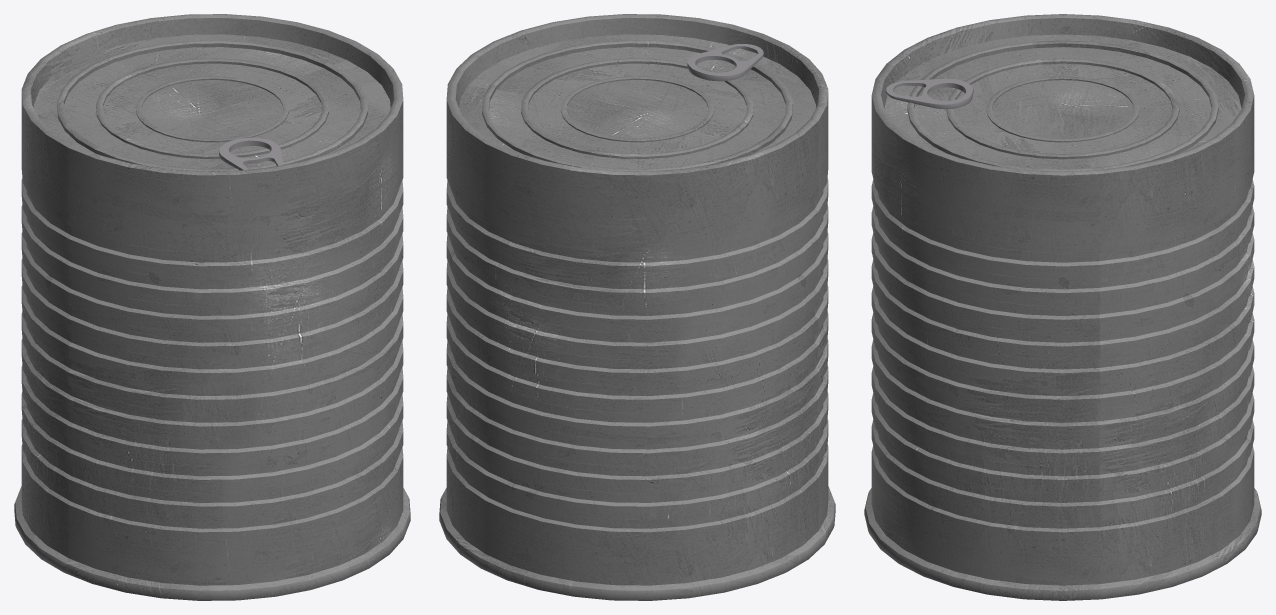
File: canned1.fbx
3 renders of one model, left to right at view 1: azimuth 30°, elevation 25°; view 2: azimuth 150°, elevation 25°; view 3: azimuth 270°, elevation 25°, orthographic.
Parts seen in each view (by area): view 1: canned_1; view 2: canned_1; view 3: canned_1.
Part boxes in pixels (x1,y1,x2,y2): canned_1: [14, 14, 410, 600]; canned_1: [439, 14, 835, 600]; canned_1: [864, 14, 1261, 600].
Bounding box in the file's own units: 269 × 317 × 269.
Materials: 2 (2 with a texture image).
